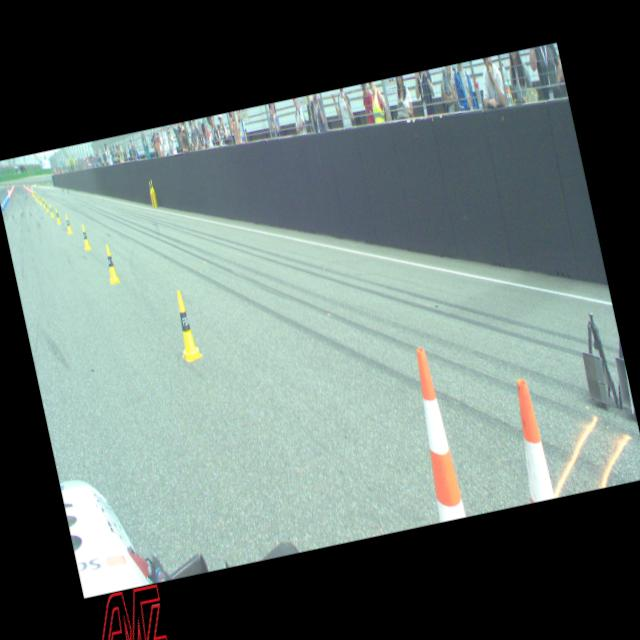blue_cone: (0, 200, 5, 211), (2, 196, 6, 208)
large_orange_cone: (404, 346, 466, 522)
yellow_cone: (168, 288, 202, 362), (102, 244, 120, 284), (79, 223, 91, 250), (64, 213, 72, 234), (54, 208, 61, 224), (48, 203, 54, 216), (41, 196, 46, 208), (44, 200, 49, 212), (150, 178, 154, 190), (148, 181, 152, 192), (38, 195, 42, 203), (36, 194, 39, 202)
